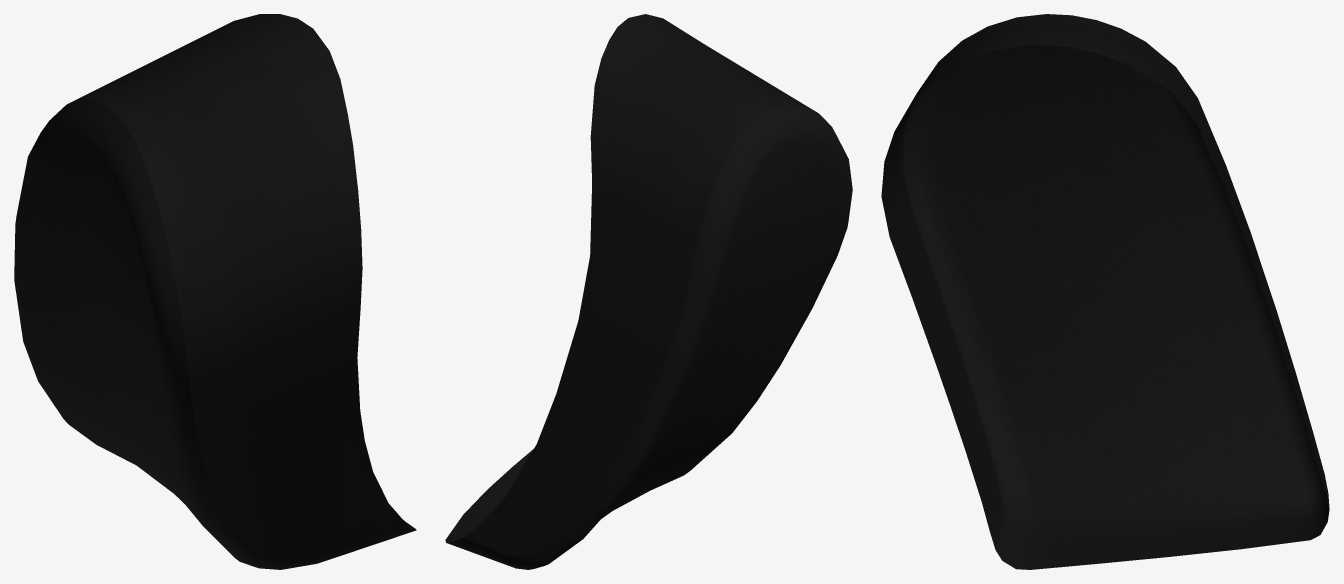
Rendered from frame_controller_right_grip_button.obj.
3 renders of one model, left to right at view 1: azimuth 30°, elevation 25°; view 2: azimuth 150°, elevation 25°; view 3: azimuth 270°, elevation 25°, orthographic. The views are drawn at different scales.
Parts seen in each view (by area): view 1: frame_controller_right_grip_button; view 2: frame_controller_right_grip_button; view 3: frame_controller_right_grip_button.
Boxes of the visible parts, box(x1,y1,x2,y2) form: frame_controller_right_grip_button: box(14, 14, 416, 569); frame_controller_right_grip_button: box(445, 14, 852, 569); frame_controller_right_grip_button: box(881, 14, 1329, 569).
Bounding box in the file's own units: 0.0151 × 0.0248 × 0.0204.
1 material, 1 textured.
